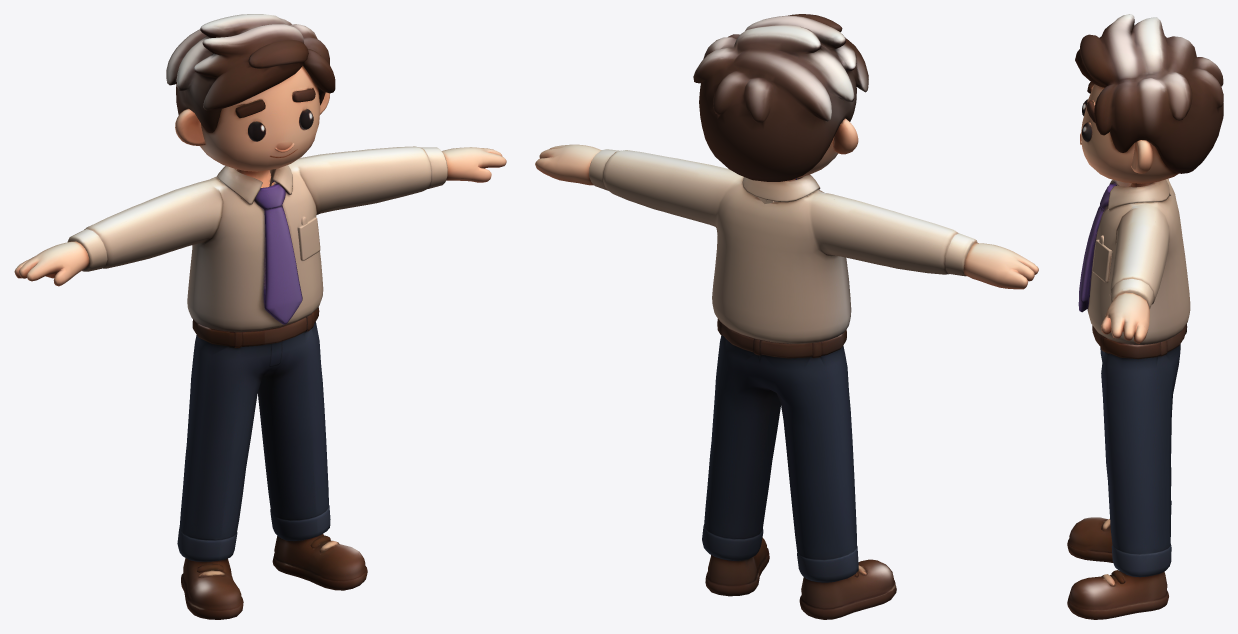
The model's file is office_worker_character_3d_model.fbx.
The picture shows the model from 3 angles, left to right: view 1: azimuth 30°, elevation 25°; view 2: azimuth 150°, elevation 25°; view 3: azimuth 270°, elevation 25°; orthographic projection. The views are drawn at different scales.
Visible parts, largest first — view 1: tripo_35e346c0_67dd_40fb_b656_c725357ae8c7; view 2: tripo_35e346c0_67dd_40fb_b656_c725357ae8c7; view 3: tripo_35e346c0_67dd_40fb_b656_c725357ae8c7.
Boxes of the visible parts, box(x1,y1,x2,y2) form: tripo_35e346c0_67dd_40fb_b656_c725357ae8c7: box(14, 14, 506, 619); tripo_35e346c0_67dd_40fb_b656_c725357ae8c7: box(535, 14, 1038, 619); tripo_35e346c0_67dd_40fb_b656_c725357ae8c7: box(1067, 14, 1223, 619).
Bounding box in the file's own units: 0.897 × 0.9995 × 0.2593.
Materials: 1 (1 with a texture image).
